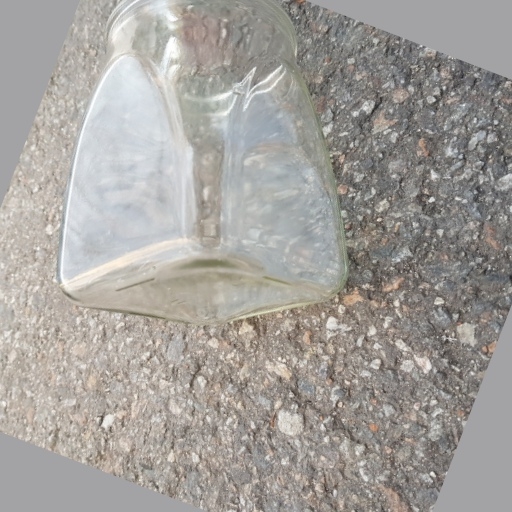Glass_5: (59, 1, 353, 329)
